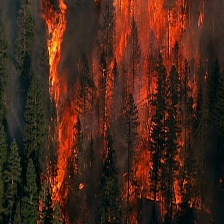fire: (103, 2, 203, 212), (46, 8, 80, 220)
